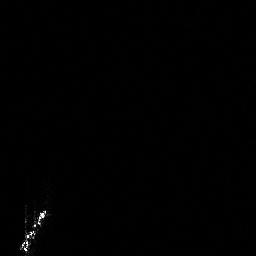ship: (16, 205, 51, 255)
